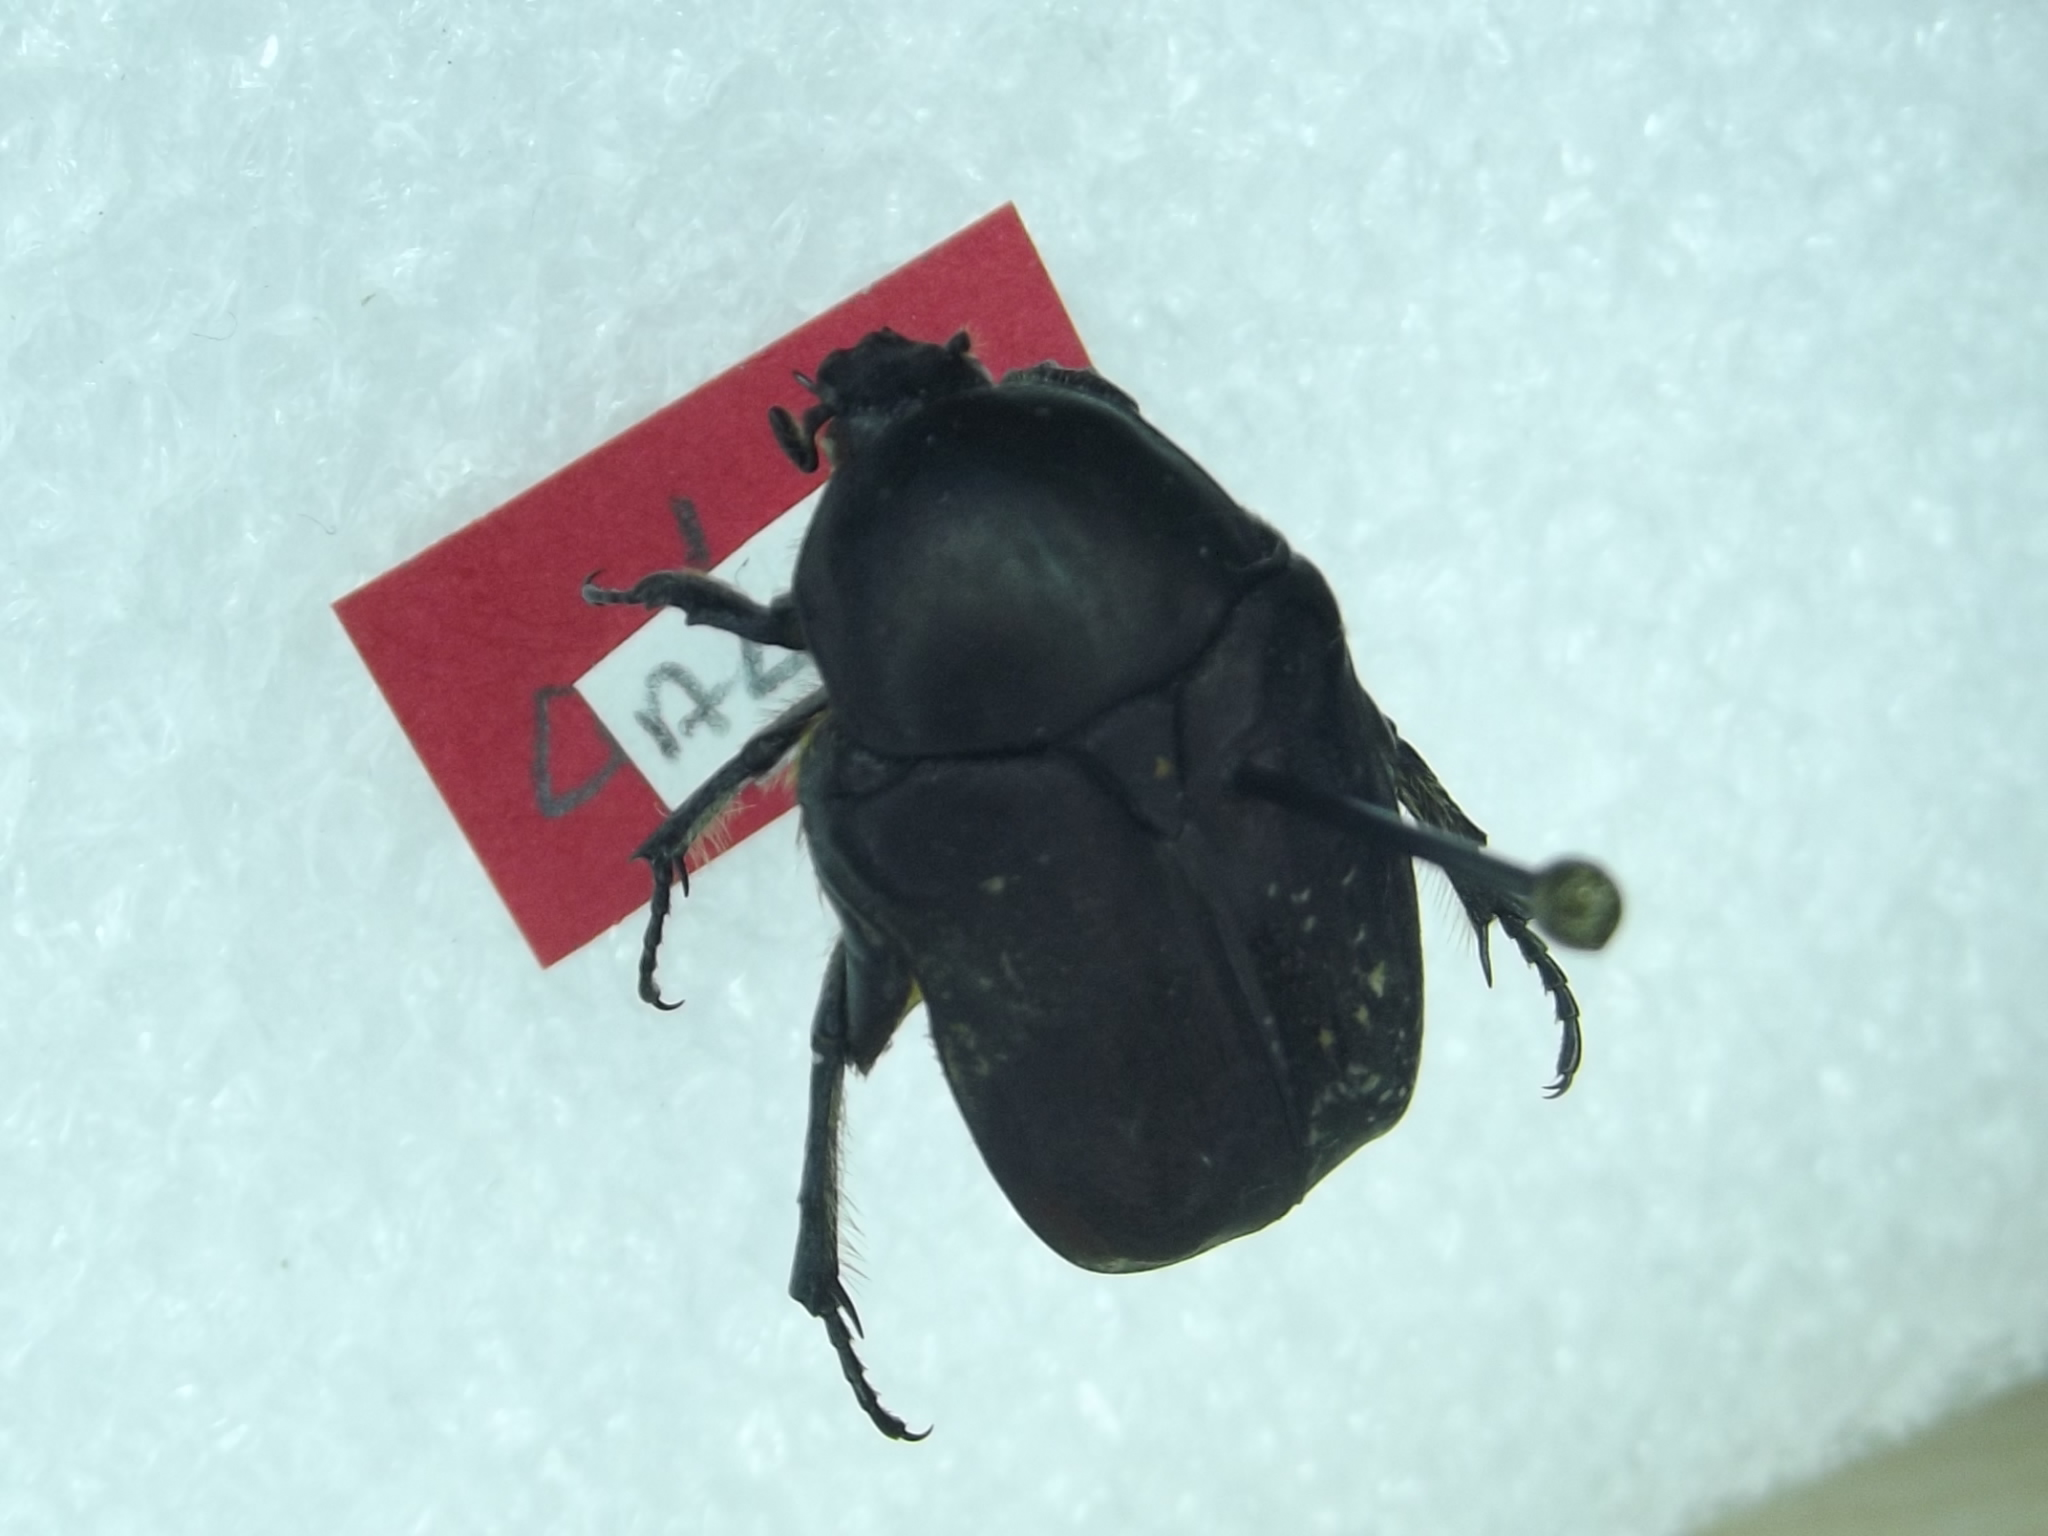Protaetia_asiatica: (548, 308, 1621, 1446)
